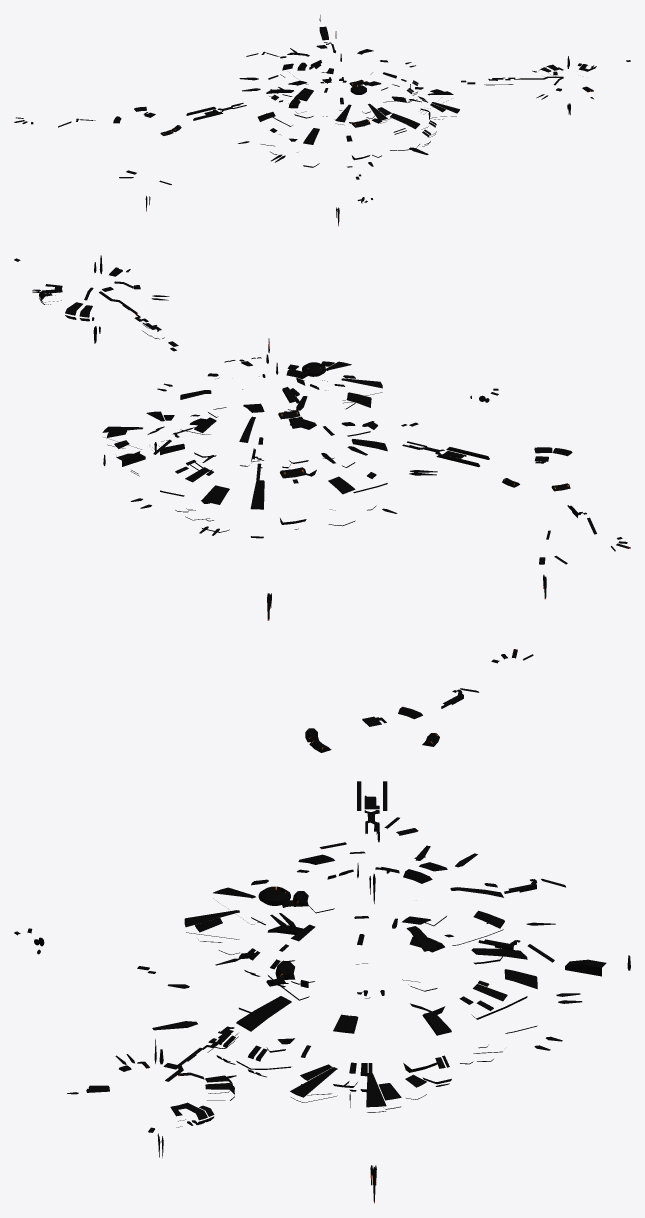
The model's file is ama_st_dock_01.glb.
3 views of the same model, one above another, from view 1: azimuth 30°, elevation 25°; view 2: azimuth 150°, elevation 25°; view 3: azimuth 270°, elevation 25° (orthographic). The views are drawn at different scales.
Parts seen in each view (by area): view 1: ama_station_01_LOD0; view 2: ama_station_01_LOD0; view 3: ama_station_01_LOD0.
Boxes of the visible parts, x1=… form: ama_station_01_LOD0: x1=14, y1=15, x2=630, y2=226; ama_station_01_LOD0: x1=14, y1=255, x2=630, y2=620; ama_station_01_LOD0: x1=14, y1=649, x2=630, y2=1203.
Size of what is drawn, in the model's own units: 66.09 by 23.86 by 35.14.
1 material, 1 textured.
